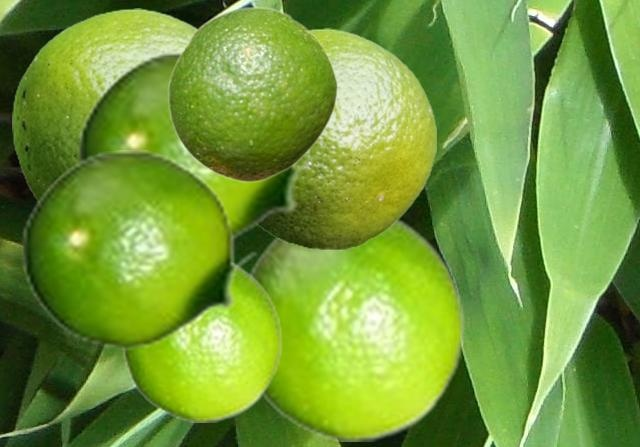calamansi: (248, 215, 465, 440), (20, 150, 259, 349), (76, 51, 321, 245), (256, 28, 435, 249), (12, 8, 197, 200), (167, 6, 337, 182), (121, 260, 282, 421)
